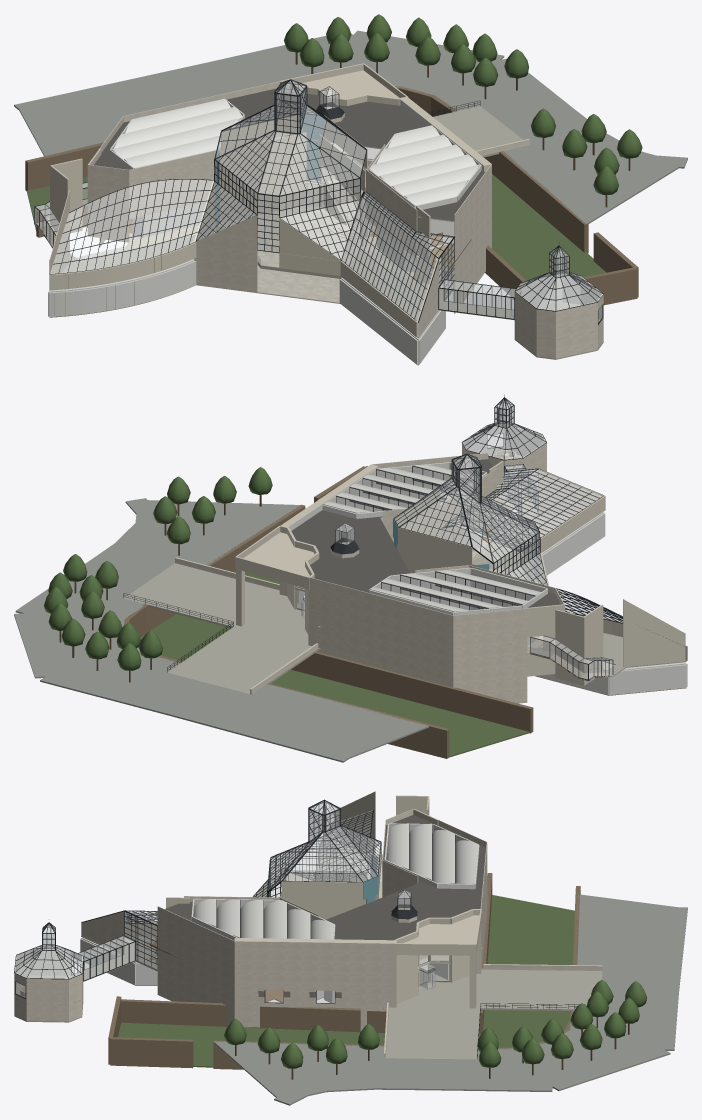
File: MUDAM_R49_ALT_MERDIVEN_YUZEY_v001_preview.glb
3 views of the same model, one above another, from view 1: azimuth 30°, elevation 25°; view 2: azimuth 150°, elevation 25°; view 3: azimuth 270°, elevation 25° (orthographic). The views are drawn at different scales.
Visible parts, largest first — view 1: R38_PARK_APPROACH_GROUND, R35_MOAT_GROUND, P05_MAIN_ATRIUM_BASE_3, P05_MAIN_ROOF_DECK, R28_W_HIGH_GALLERY_WALL, R07_STAIRWELL_STONE_NORTH, P05_FRONT_0, P05_FLOOR_L00_GH, P05_GALLERY_HALL_WEST2, R35_WALL_49911001_07_2, P05_FLOOR_L00_EAST_GARDEN, R28_E_HIGH_GALLERY_WALL (+57 smaller); view 2: R38_PARK_APPROACH_GROUND, R34_APPROACH_CONTINUOUS_DECK, P05_FRONT_9, R35_MOAT_GROUND, P05_MAIN_ROOF_DECK, P05_FRONT_10, R35_WALL_51946353_03_0, P05_WEST_END, R35_WALL_51946353_04_0, R14_INNER_WALL_B, R29_W_BOUNDARY_32, R11_STONE_END (+27 smaller); view 3: R38_PARK_APPROACH_GROUND, R34_APPROACH_CONTINUOUS_DECK, R35_MOAT_GROUND, R27_CONTINUOUS_HEAD, P05_FRONT_0, P05_MAIN_ROOF_DECK, R35_WALL_51946353_00_0, R35_WALL_453755312_00_0, R17_WALL_6, P06_HIGH_EAVE_UPSTAND_5, P07_CANOPY_SLAB_ENVELOPE, P05_WEST_END (+27 smaller).
Boxes of the visible parts, <box> form: R38_PARK_APPROACH_GROUND: <box>14,30,687,223</box>; R35_MOAT_GROUND: <box>26,174,606,280</box>; P05_MAIN_ATRIUM_BASE_3: <box>220,132,306,222</box>; P05_MAIN_ROOF_DECK: <box>88,88,485,222</box>; R28_W_HIGH_GALLERY_WALL: <box>129,149,223,218</box>; R07_STAIRWELL_STONE_NORTH: <box>193,215,257,292</box>; P05_FRONT_0: <box>454,164,491,313</box>; P05_FLOOR_L00_GH: <box>216,205,368,276</box>; P05_GALLERY_HALL_WEST2: <box>87,164,129,241</box>; R35_WALL_49911001_07_2: <box>499,151,588,253</box>; P05_FLOOR_L00_EAST_GARDEN: <box>342,248,452,338</box>; R28_E_HIGH_GALLERY_WALL: <box>366,169,417,257</box>; R38_PARK_APPROACH_GROUND: <box>14,498,429,762</box>; R34_APPROACH_CONTINUOUS_DECK: <box>124,563,318,693</box>; P05_FRONT_9: <box>309,577,453,687</box>; R35_MOAT_GROUND: <box>140,571,529,757</box>; P05_MAIN_ROOF_DECK: <box>291,459,564,622</box>; P05_FRONT_10: <box>453,608,527,703</box>; R35_WALL_51946353_03_0: <box>317,652,458,712</box>; P05_WEST_END: <box>623,599,685,667</box>; R35_WALL_51946353_04_0: <box>456,688,533,733</box>; R14_INNER_WALL_B: <box>555,609,585,685</box>; R29_W_BOUNDARY_32: <box>609,664,686,695</box>; R11_STONE_END: <box>538,469,604,516</box>; R38_PARK_APPROACH_GROUND: <box>214,894,687,1105</box>; R34_APPROACH_CONTINUOUS_DECK: <box>385,969,602,1059</box>; R35_MOAT_GROUND: <box>118,895,574,1067</box>; R27_CONTINUOUS_HEAD: <box>234,938,394,991</box>; P05_FRONT_0: <box>157,906,234,1026</box>; P05_MAIN_ROOF_DECK: <box>157,815,486,949</box>; R35_WALL_51946353_00_0: <box>121,999,386,1033</box>; R35_WALL_453755312_00_0: <box>110,1037,193,1068</box>; R17_WALL_6: <box>26,978,68,1021</box>; P06_HIGH_EAVE_UPSTAND_5: <box>281,881,363,899</box>; P07_CANOPY_SLAB_ENVELOPE: <box>403,915,479,943</box>; P05_WEST_END: <box>334,791,375,854</box>.
Size of the model in its own units: 125 by 36.19 by 133.
Materials: 36 (7 with a texture image).
